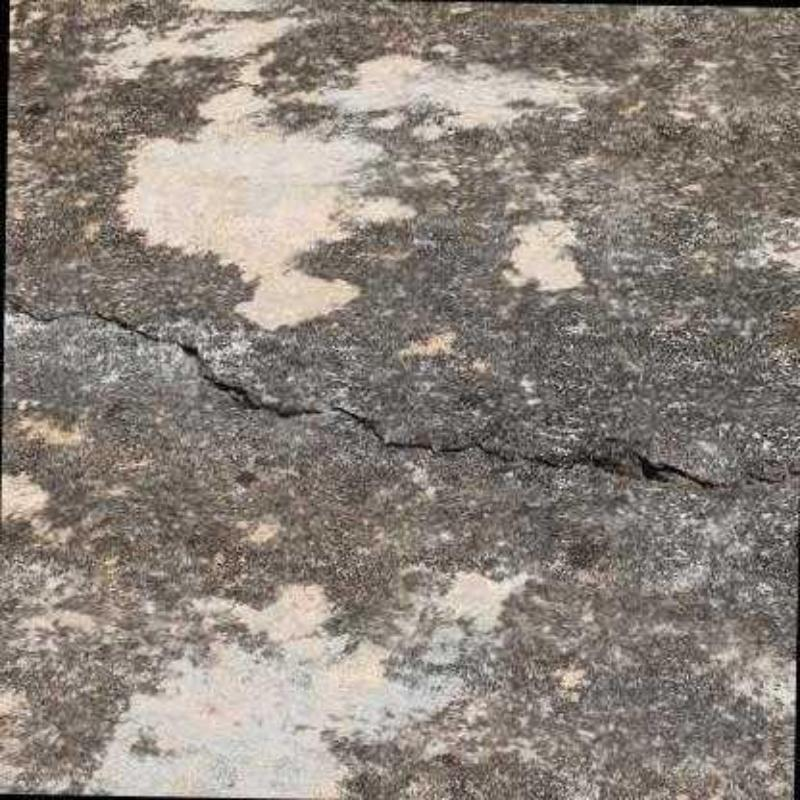crack: (2, 299, 799, 489)
